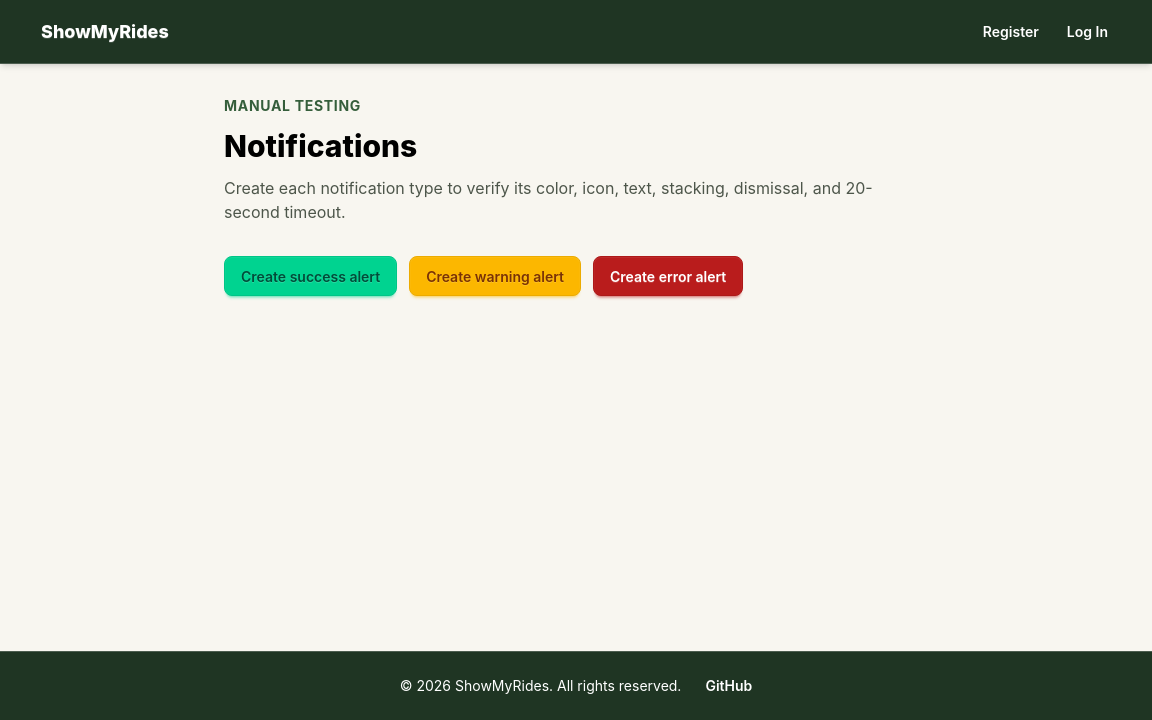
Test: App › creates notifications from the manual test route
Click the button with class "btn-success". click: (311, 276)
box: [224, 256, 397, 296]
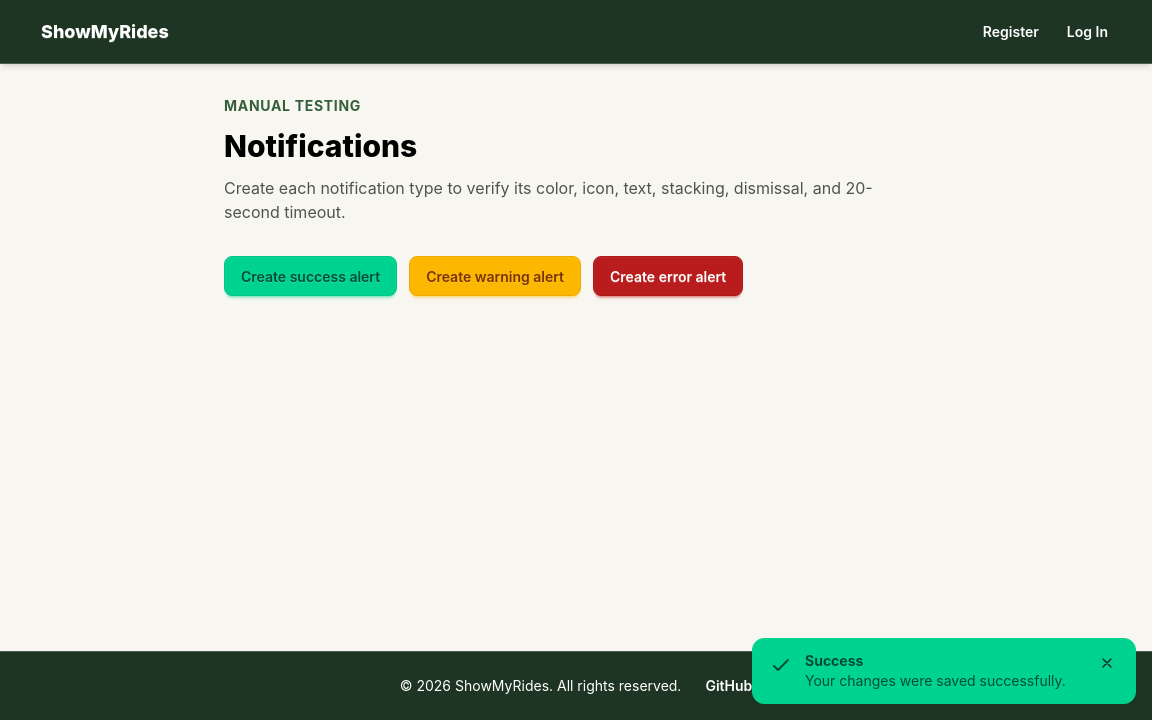
Click the button with class "btn-warning". click: (495, 276)
box: [409, 256, 581, 296]
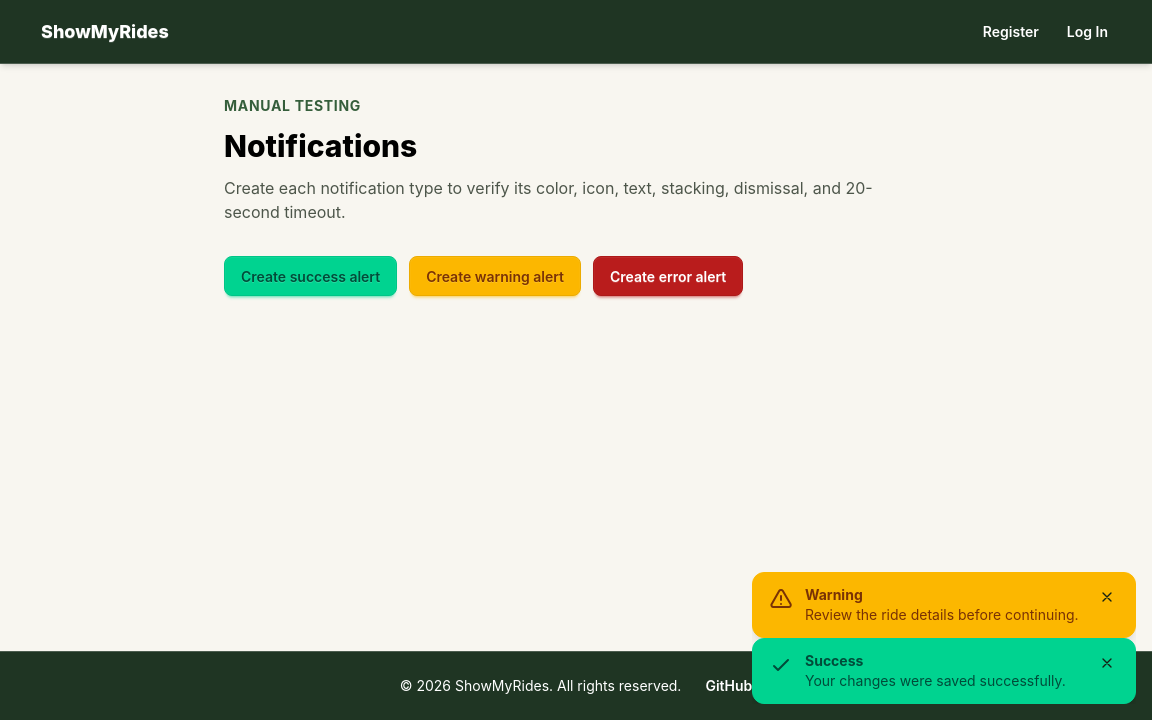
Click the button with class "btn-error". click: (668, 276)
box: [593, 256, 743, 296]
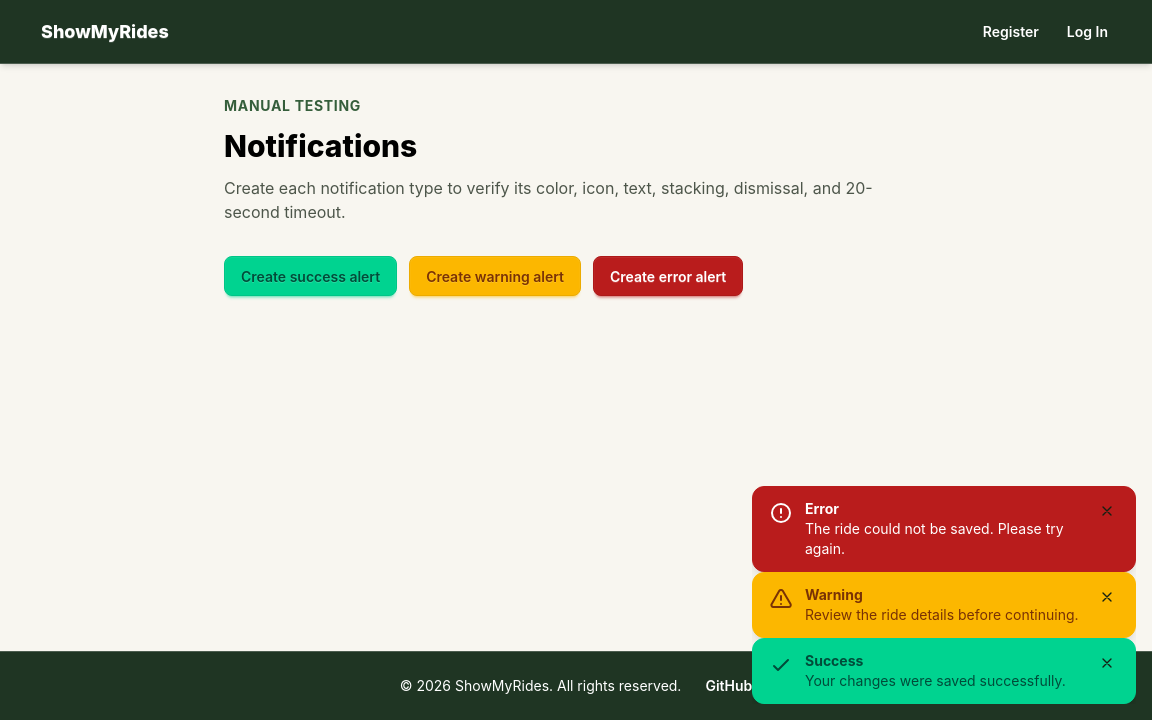
Expected: the number of messages is 3, [752, 486, 1136, 572]; [752, 572, 1136, 638]; [752, 638, 1136, 704]
